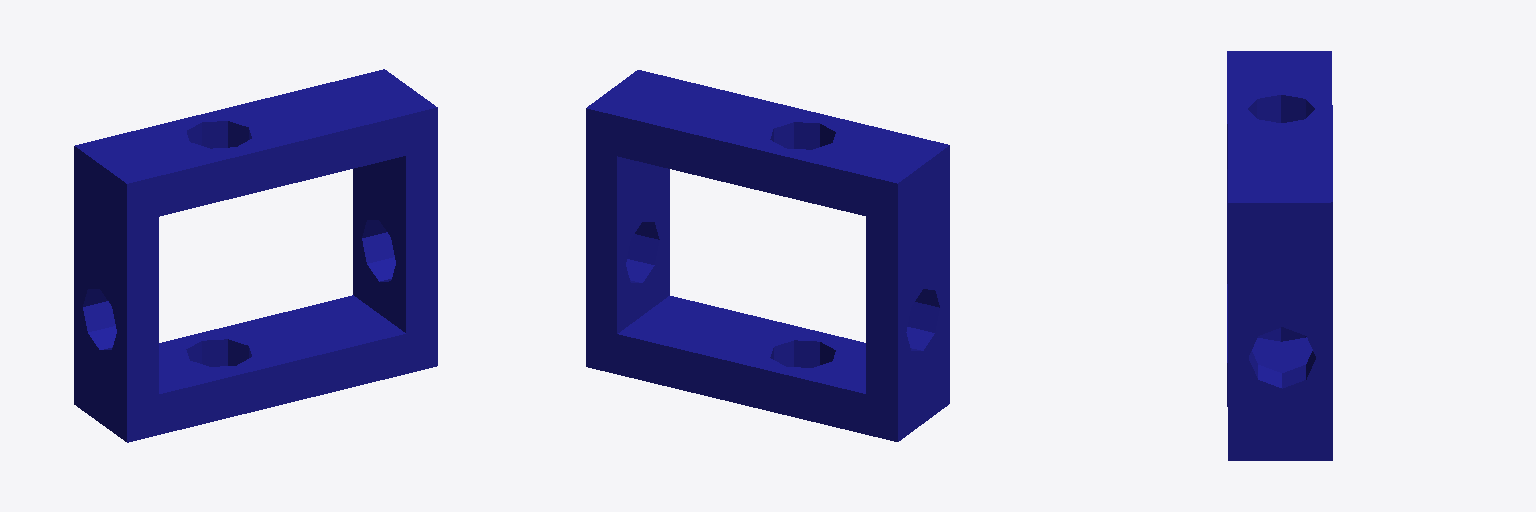
The model's file is L_WFE.obj.
3 renders of one model, left to right at view 1: azimuth 30°, elevation 25°; view 2: azimuth 150°, elevation 25°; view 3: azimuth 270°, elevation 25°, orthographic.
Parts seen in each view (by area): view 1: L_WFE.1_ShapeIndexedFaceS.083; view 2: L_WFE.1_ShapeIndexedFaceS.083; view 3: L_WFE.1_ShapeIndexedFaceS.083.
Part boxes in pixels (bbox=[...]): L_WFE.1_ShapeIndexedFaceS.083: bbox=[74, 69, 437, 442]; L_WFE.1_ShapeIndexedFaceS.083: bbox=[586, 70, 949, 441]; L_WFE.1_ShapeIndexedFaceS.083: bbox=[1227, 51, 1332, 460].
Bounding box in the file's own units: 2.28 × 1.81 × 0.6774.